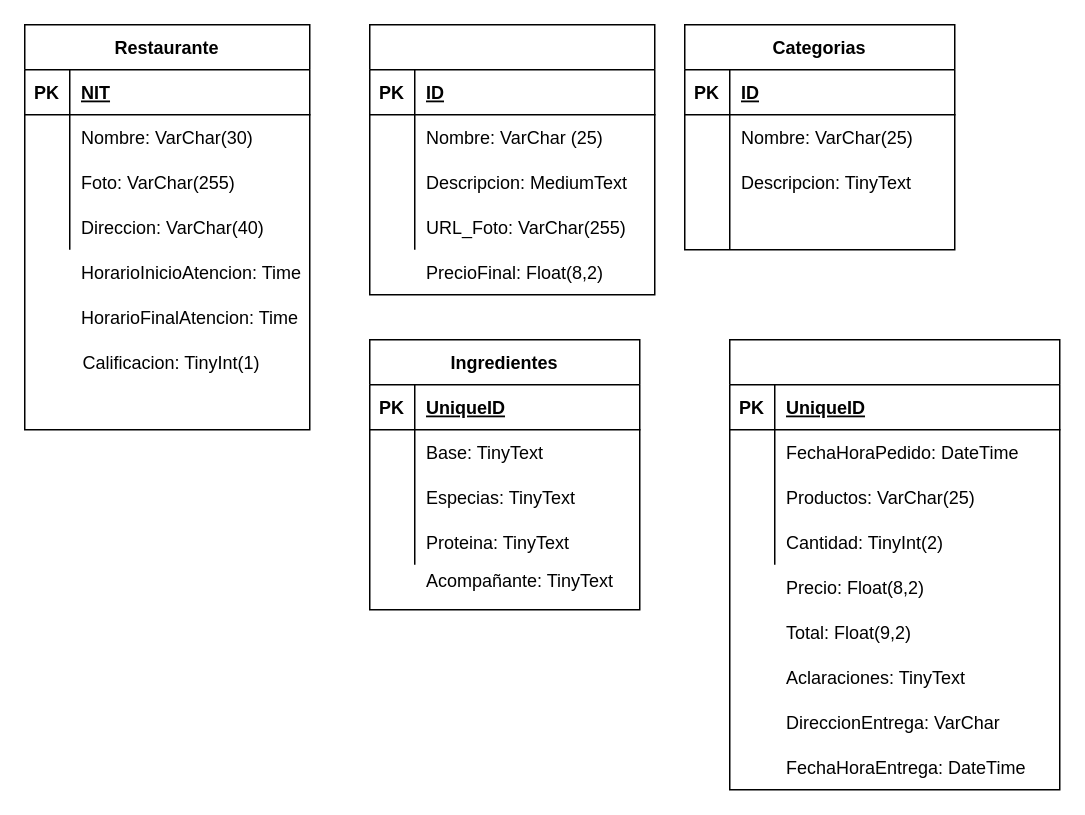
Some shapes in this 1085 by 815 pixel diagram are drawn without their labels. Here are the shapes that lost their labels. From the top down, the box of each, then its label:
(368, 23, 655, 295): Plato
(728, 338, 1060, 790): Pedidos
